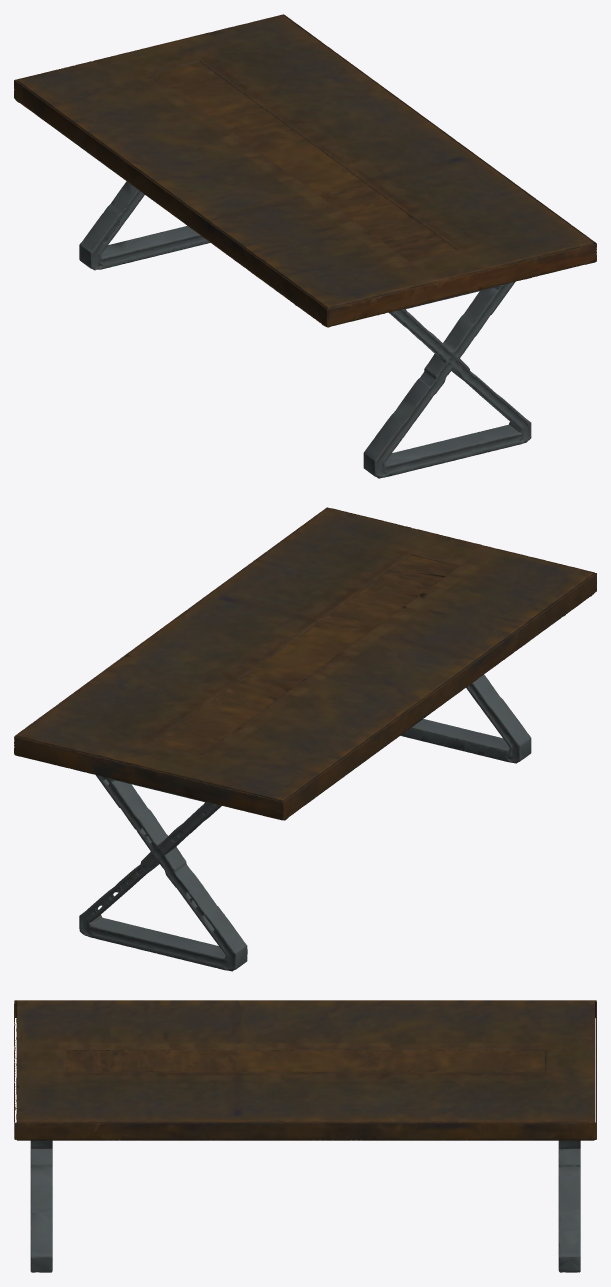
File: Industrial Modern Conference Table [1hZGK4].glb
The picture shows the model from 3 angles, top to bottom: view 1: azimuth 30°, elevation 25°; view 2: azimuth 150°, elevation 25°; view 3: azimuth 270°, elevation 25°; orthographic projection. The views are drawn at different scales.
Visible parts, largest first — view 1: geometry_0; view 2: geometry_0; view 3: geometry_0.
Part boxes in pixels (x1,y1,x2,y2): geometry_0: (14,14,596,478); geometry_0: (14,507,596,971); geometry_0: (14,1000,596,1272).
Bounding box in the file's own units: 0.4971 × 0.3375 × 0.9991.
Materials: 1 (1 with a texture image).
